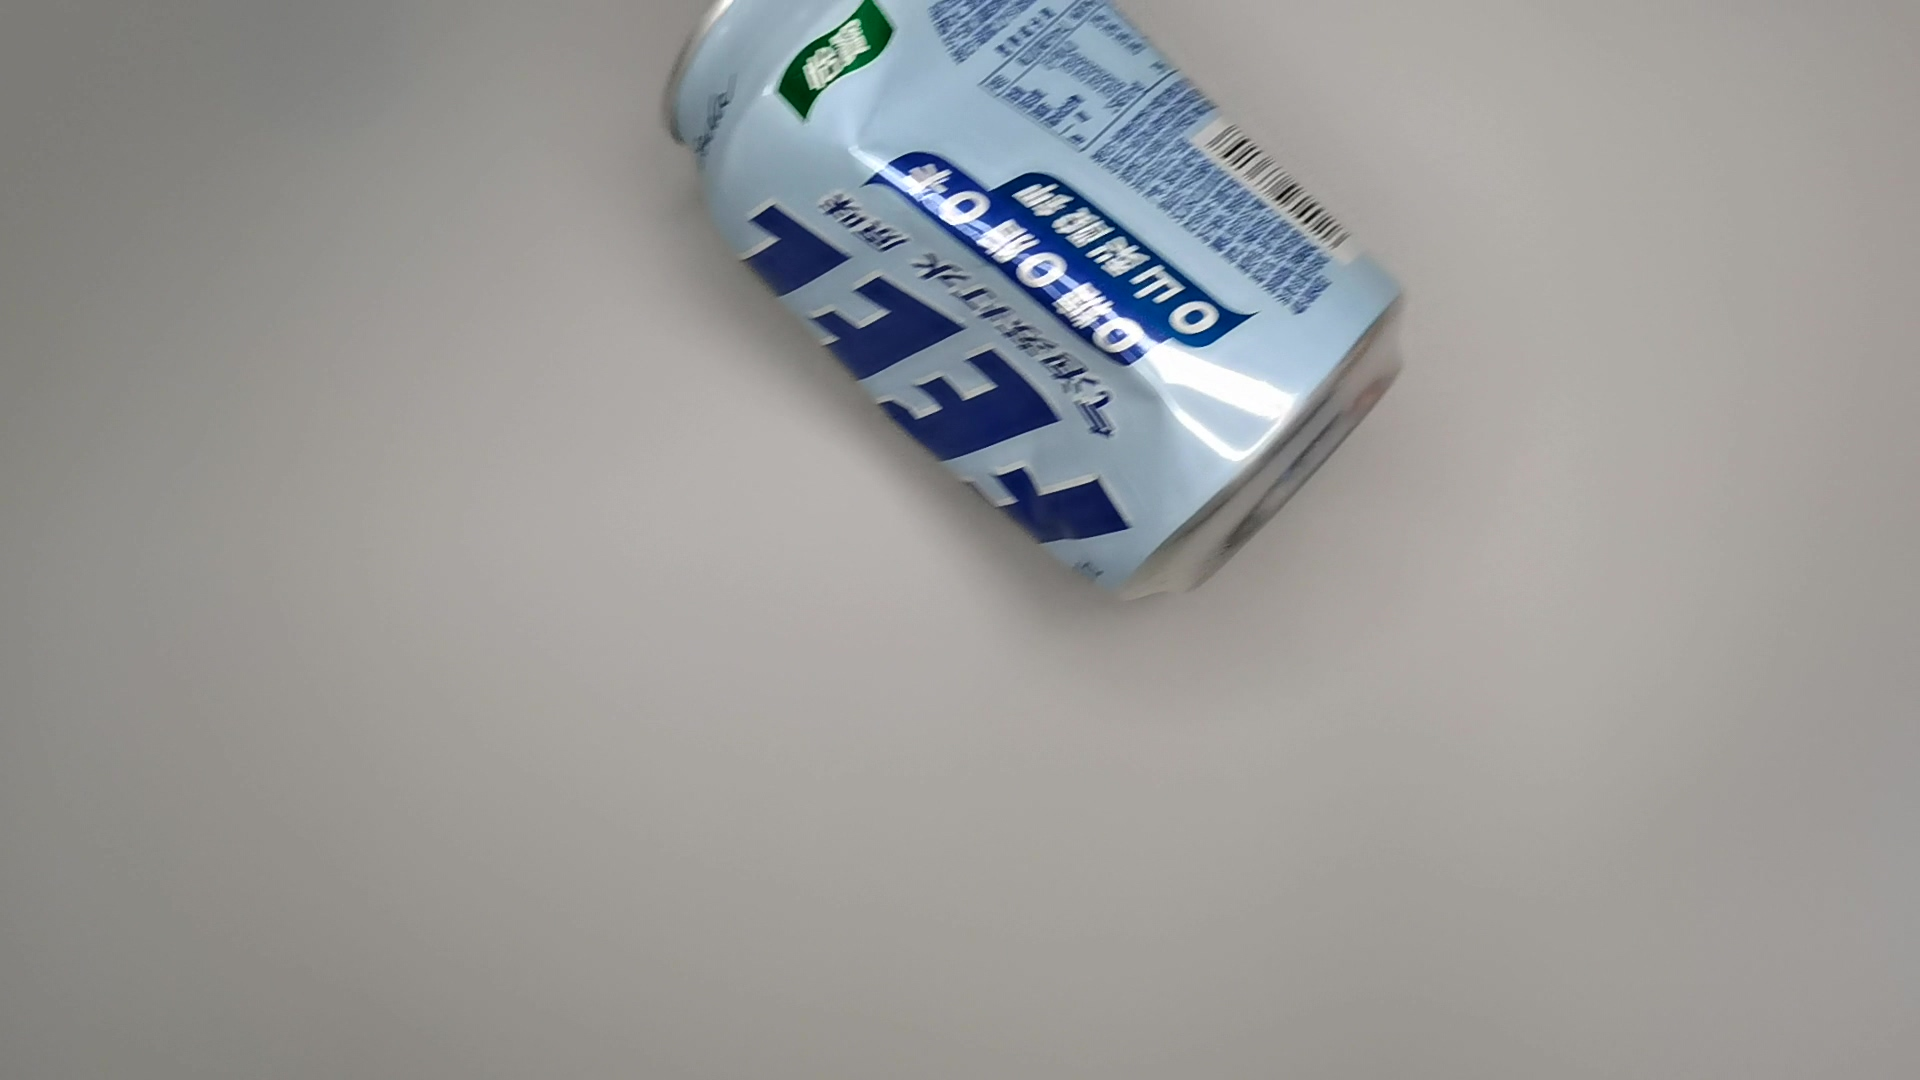can: (659, 1, 1416, 622)
